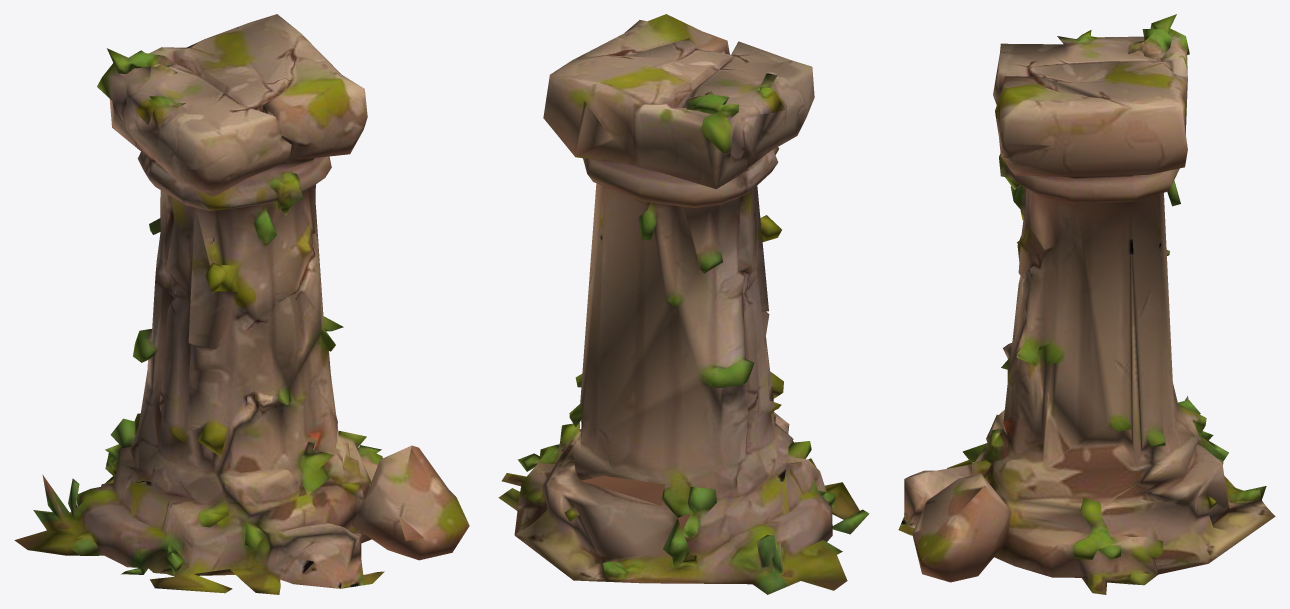
3 views of the same model, side by side, from view 1: azimuth 30°, elevation 25°; view 2: azimuth 150°, elevation 25°; view 3: azimuth 270°, elevation 25° (orthographic). The views are drawn at different scales.
Visible parts, largest first — view 1: tripo_node_4e170ea6-8a78-479b-a70c-af6e0be0b1ec; view 2: tripo_node_4e170ea6-8a78-479b-a70c-af6e0be0b1ec; view 3: tripo_node_4e170ea6-8a78-479b-a70c-af6e0be0b1ec.
Part boxes in pixels (x1=…): tripo_node_4e170ea6-8a78-479b-a70c-af6e0be0b1ec: x1=14, y1=14, x2=469, y2=594; tripo_node_4e170ea6-8a78-479b-a70c-af6e0be0b1ec: x1=498, y1=14, x2=869, y2=594; tripo_node_4e170ea6-8a78-479b-a70c-af6e0be0b1ec: x1=898, y1=14, x2=1275, y2=594.
Bounding box in the file's own units: 0.816 × 1 × 0.7495.
1 material, 1 textured.
